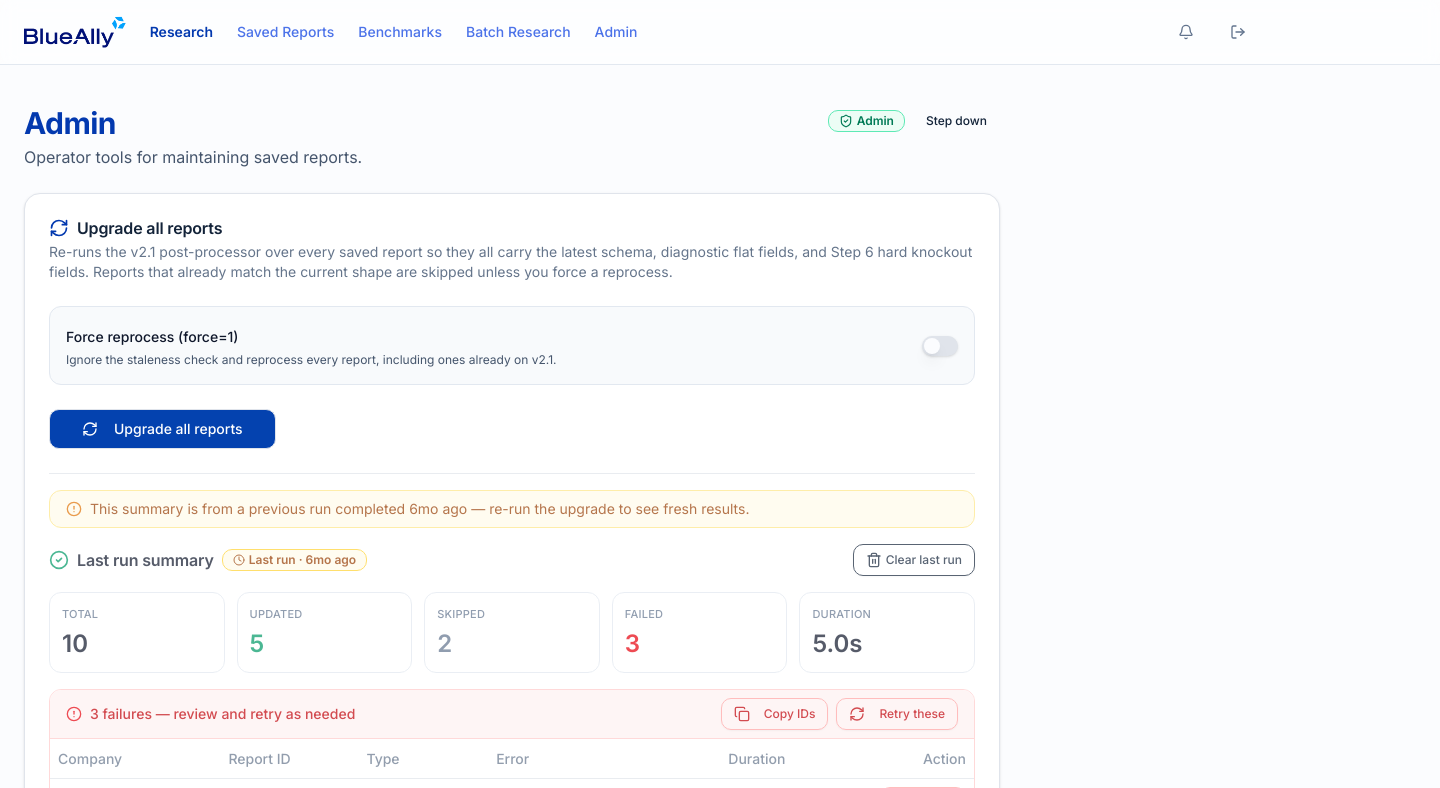
Test: AdminPanel — batch 'Retry these' keeps the reset-and-replace path › clears the existing failures table immediately and replaces the summary with the new run's result
Click the button "Retry these": click(897, 714) x1=836 y1=698 x2=958 y2=730
(page scrolled)
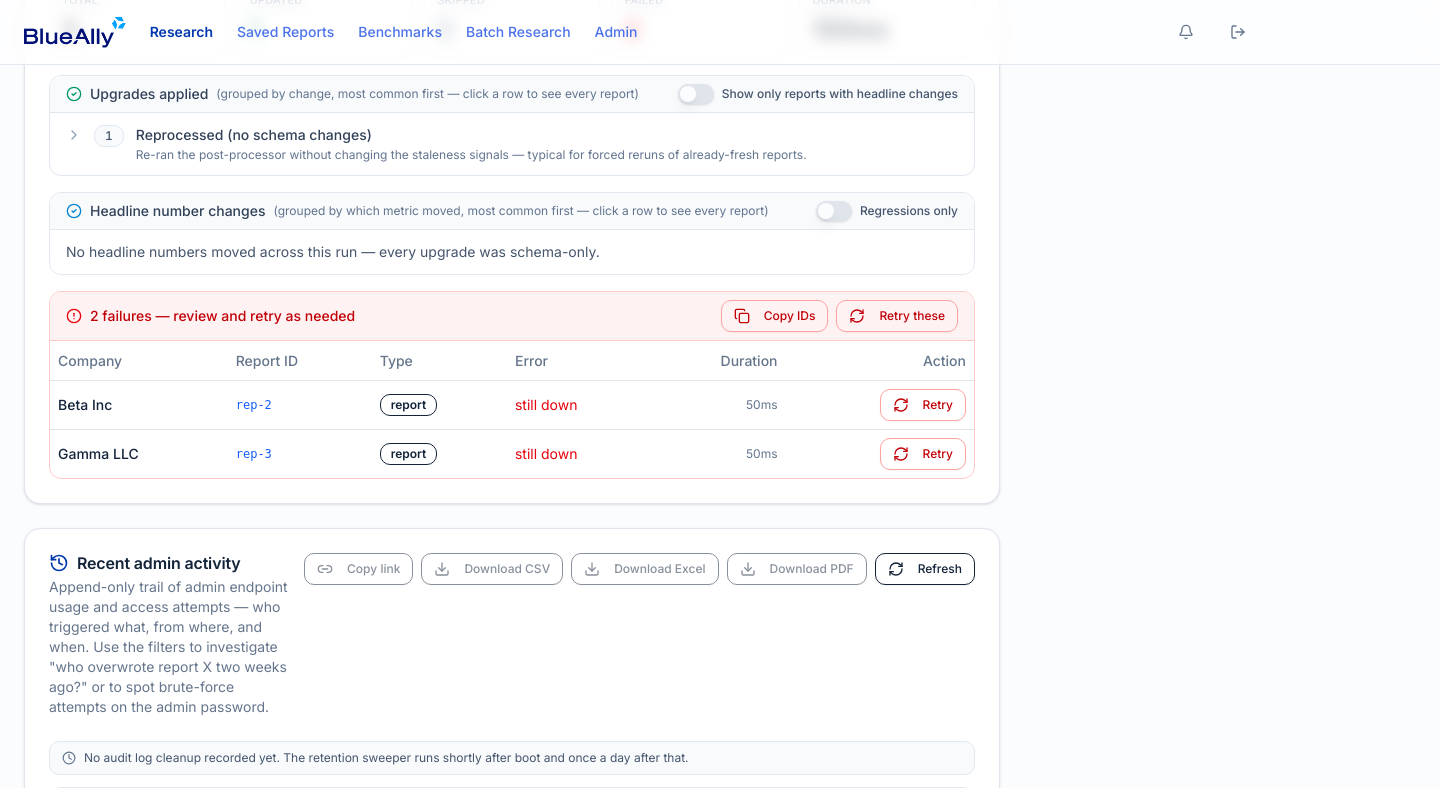
Expected: the cell "still down" in the row of "Beta Inc" is shown, x1=515 y1=396 x2=578 y2=413
